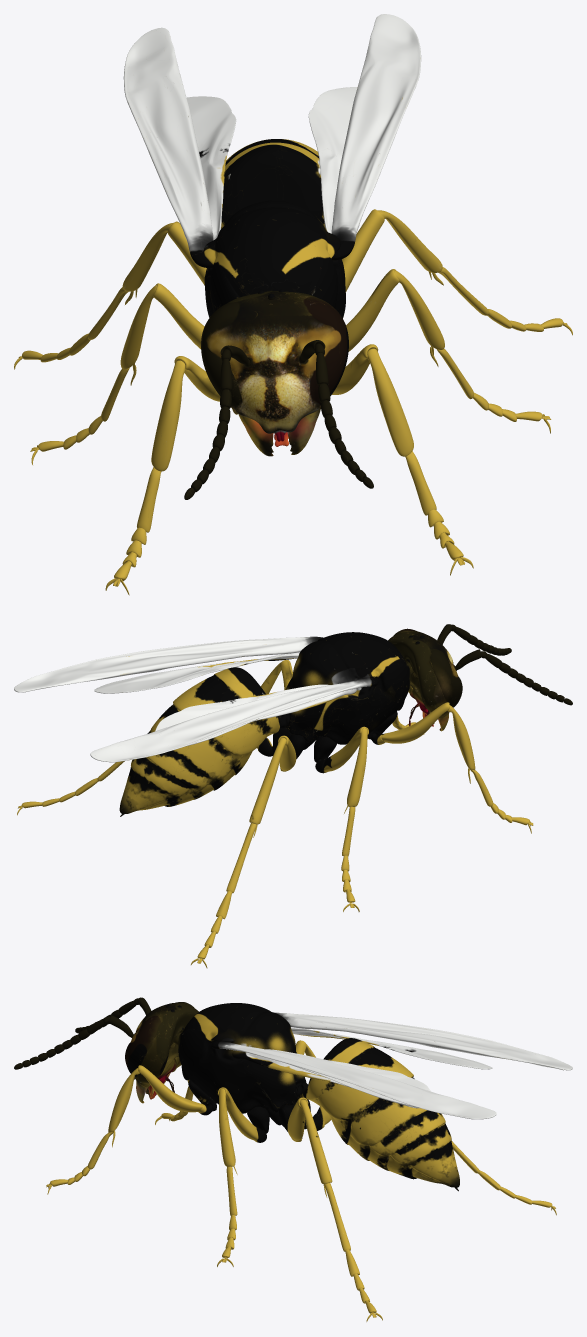
The model's file is wasp.glb.
The picture shows the model from 3 angles, top to bottom: view 1: azimuth 30°, elevation 25°; view 2: azimuth 150°, elevation 25°; view 3: azimuth 270°, elevation 25°; orthographic projection. The views are drawn at different scales.
Parts seen in each view (by area): view 1: node_id30_1, node_id33_6, node_id36_3; view 2: node_id30_1, node_id33_6, node_id36_3; view 3: node_id33_6, node_id36_3, node_id30_1.
Boxes of the visible parts, x1=… form: node_id30_1: x1=14, y1=27, x2=338, y2=595; node_id33_6: x1=201, y1=139, x2=348, y2=456; node_id36_3: x1=56, y1=14, x2=572, y2=575; node_id30_1: x1=90, y1=629, x2=572, y2=968; node_id33_6: x1=119, y1=628, x2=462, y2=816; node_id36_3: x1=14, y1=624, x2=542, y2=932; node_id33_6: x1=125, y1=1002, x2=459, y2=1191; node_id36_3: x1=14, y1=1003, x2=517, y2=1321; node_id30_1: x1=75, y1=997, x2=572, y2=1215.
Bounding box in the file's own units: 1.23 × 0.6108 × 1.47.
3 materials, 3 textured.
